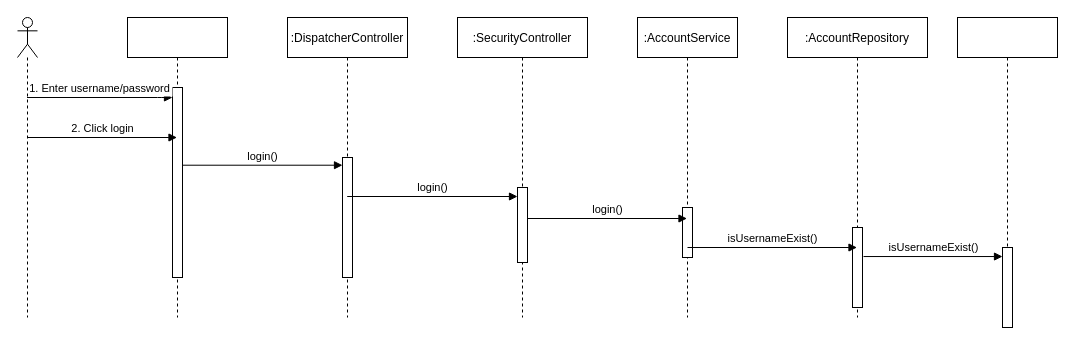
This 1075x345 diagram has some shape labels left out. Each missing label, with the box of its shape:
Data: (956, 16, 1058, 318)
View: (126, 16, 228, 318)
